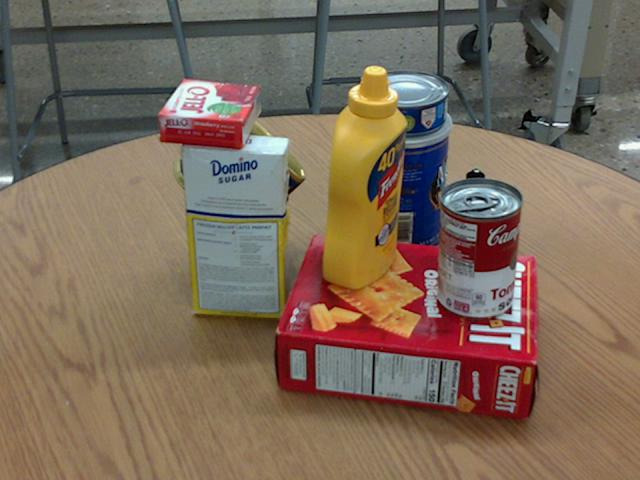cracker_box: (277, 233, 536, 418)
gelatin_box: (158, 78, 261, 147)
large_marker: (457, 169, 483, 280)
master_chef_can: (349, 98, 453, 260)
mug: (194, 173, 287, 281)
mustard_bottle: (321, 64, 406, 289)
potted_meat_can: (174, 107, 306, 236)
sugar_box: (179, 130, 289, 319)
tomato_soup_can: (437, 176, 523, 318)
tuna_fish_can: (363, 70, 449, 134)
